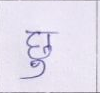u_matra: (20, 60, 48, 79)
